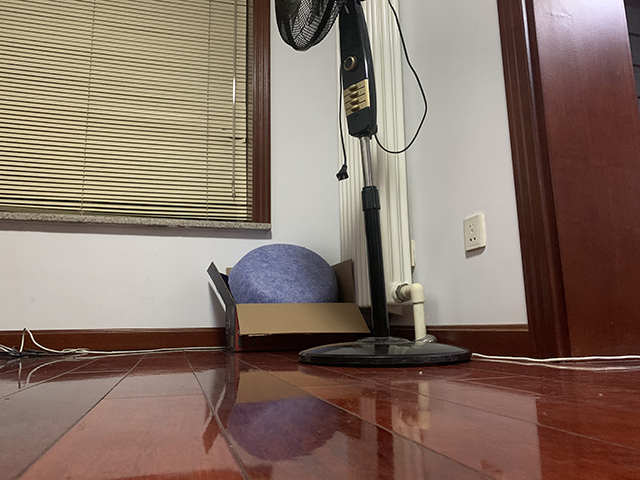curtain: (343, 1, 415, 313)
wire: (1, 326, 227, 358), (472, 349, 640, 365)
